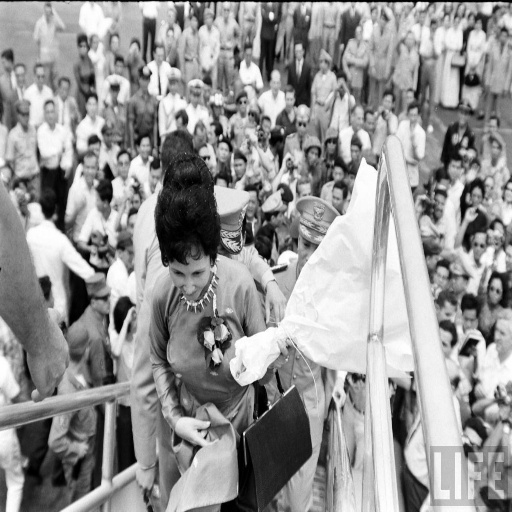hand: (25, 320, 71, 404), (176, 415, 219, 447), (265, 333, 296, 369), (265, 279, 286, 326), (134, 463, 158, 495), (464, 204, 478, 225), (74, 439, 88, 459), (473, 380, 487, 400), (124, 306, 137, 325), (121, 187, 134, 204), (246, 132, 258, 148), (90, 244, 99, 254)
